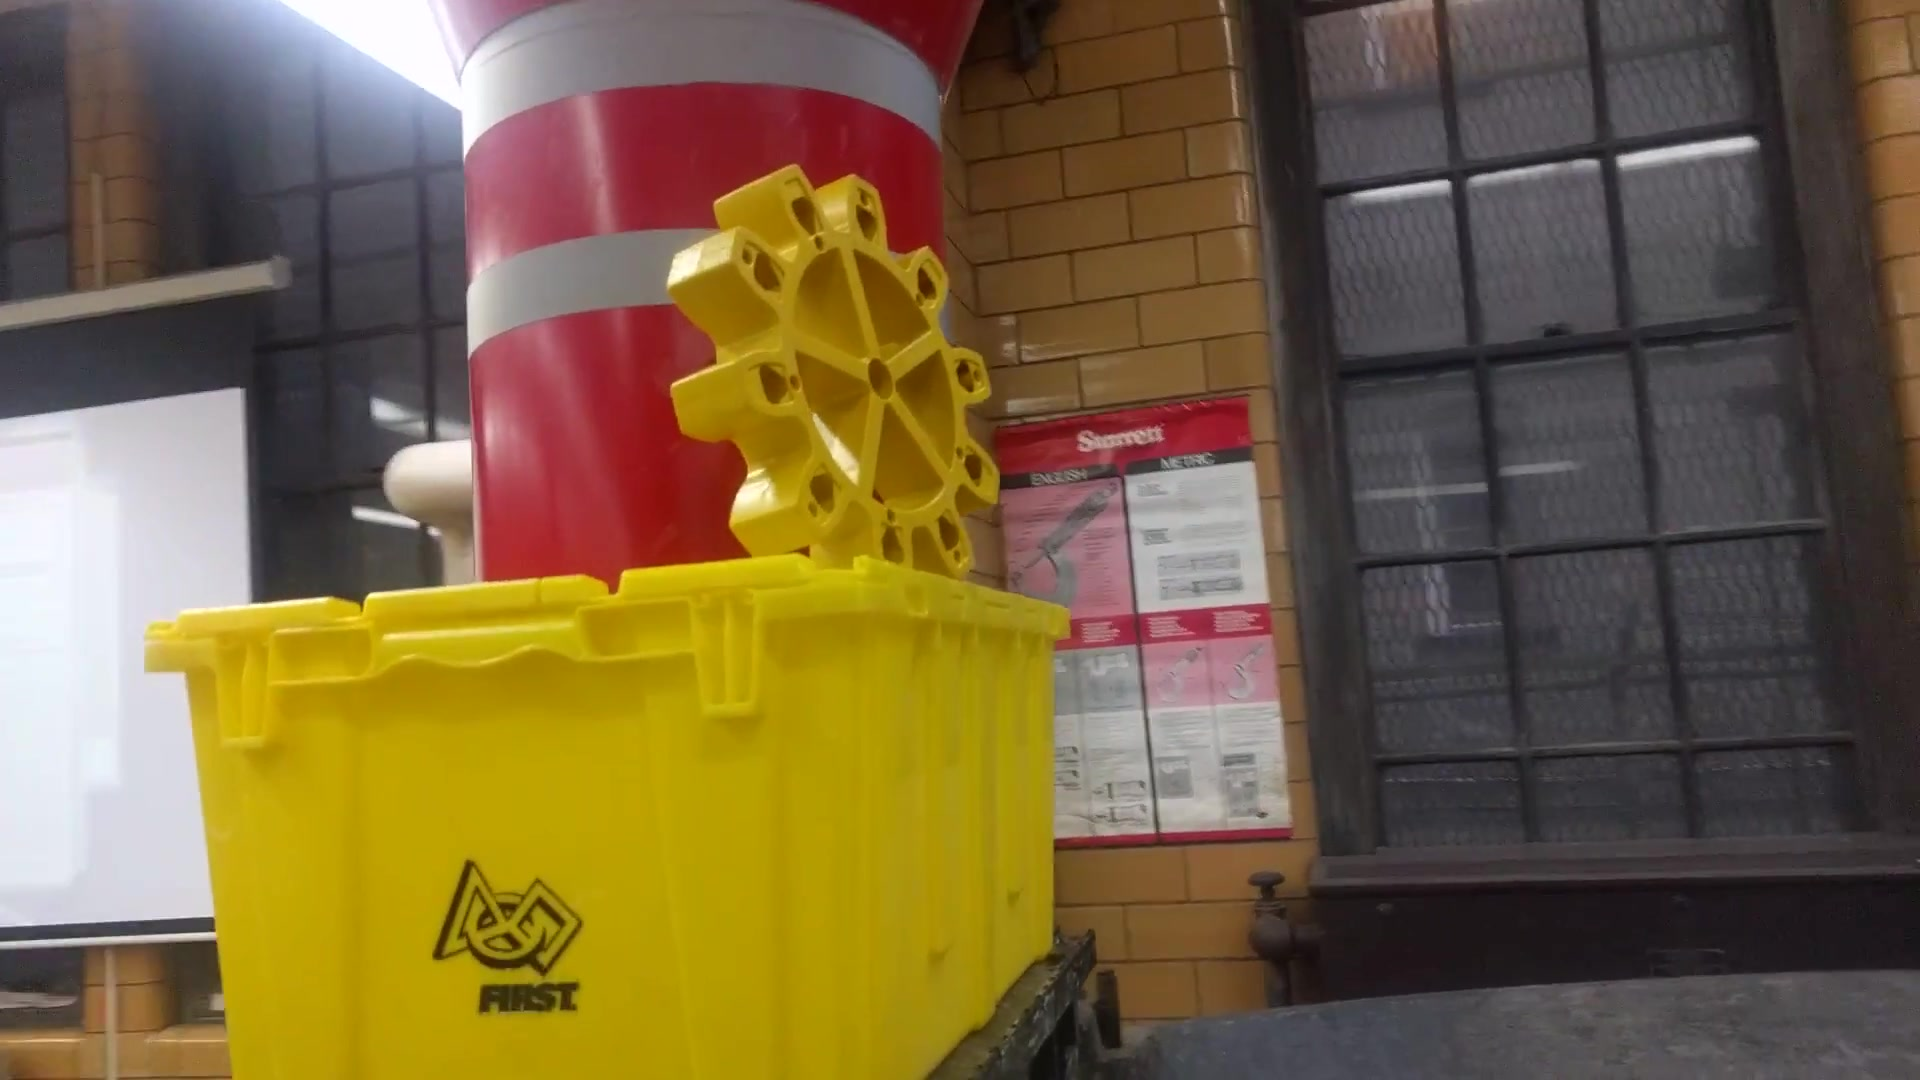gear: (645, 152, 1014, 593)
